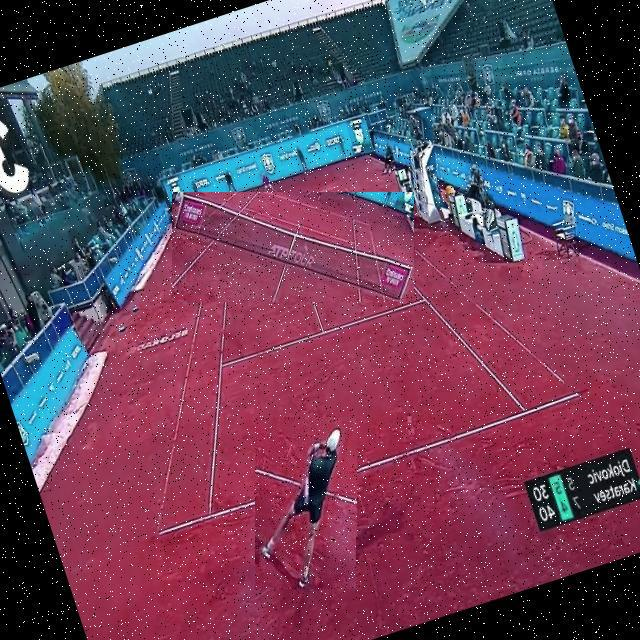court: (72, 134, 581, 536)
net: (172, 192, 414, 302)
player: (255, 417, 358, 589)
